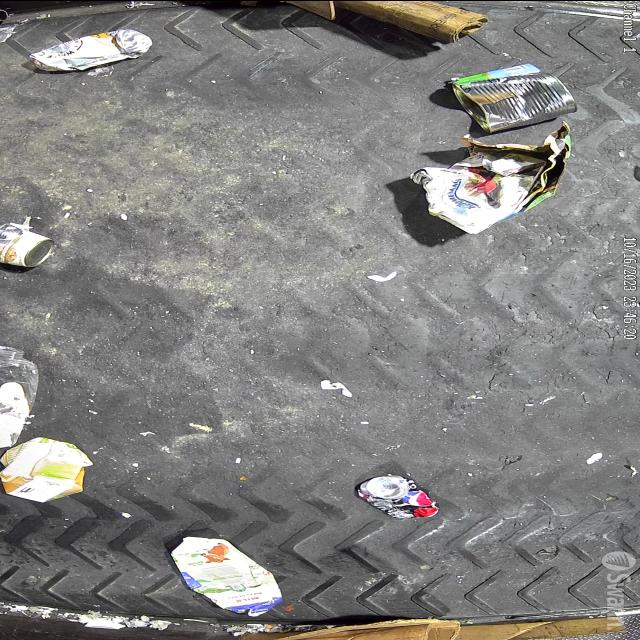can: (430, 77, 563, 143), (28, 28, 154, 71), (356, 474, 438, 518), (0, 222, 54, 267)
non_white_jug: (171, 536, 283, 616), (0, 435, 94, 502)
plastic_bottle: (0, 344, 40, 447)
